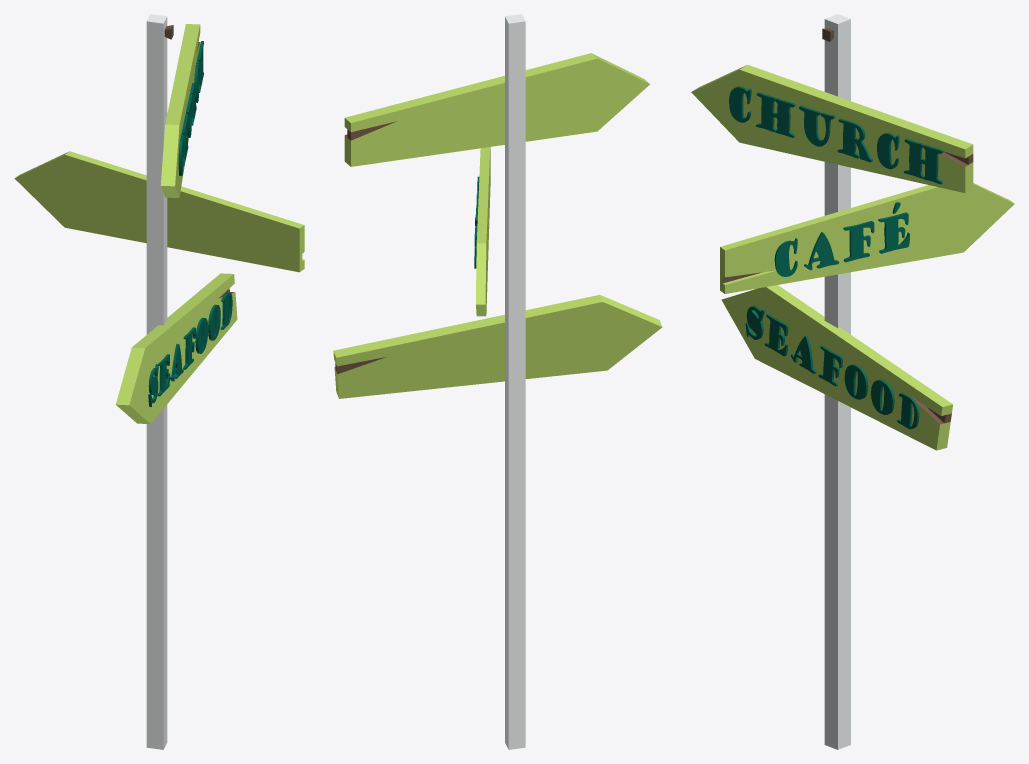
File: 03RoadSign.fbx
3 views of the same model, side by side, from view 1: azimuth 30°, elevation 25°; view 2: azimuth 150°, elevation 25°; view 3: azimuth 270°, elevation 25° (orthographic).
Parts seen in each view (by area): view 1: Cube, Cylinder, Cube.002, Cube.001, Text.002, Text; view 2: Cube.002, Cube.001, Cylinder, Cube; view 3: Cube, Cylinder, Cube.001, Cube.002, Text, Text.002, Text.001.
Part boxes in pixels (box(x1,y1,x2,y2)): Cube: box(14, 151, 304, 272); Cylinder: box(146, 14, 173, 749); Cube.002: box(115, 273, 237, 424); Cube.001: box(160, 24, 200, 197); Text.002: box(148, 292, 232, 406); Text: box(178, 41, 203, 175); Cube.002: box(333, 294, 662, 398); Cube.001: box(344, 53, 649, 166); Cylinder: box(505, 14, 525, 749); Cube: box(475, 147, 490, 316); Cube: box(720, 183, 1014, 293); Cylinder: box(822, 14, 850, 749); Cube.001: box(691, 64, 973, 192); Cube.002: box(721, 285, 952, 450); Text: box(729, 86, 943, 184); Text.002: box(745, 306, 919, 429); Text.001: box(774, 202, 909, 276).
Bounding box in the file's own units: 283 × 878 × 355.
